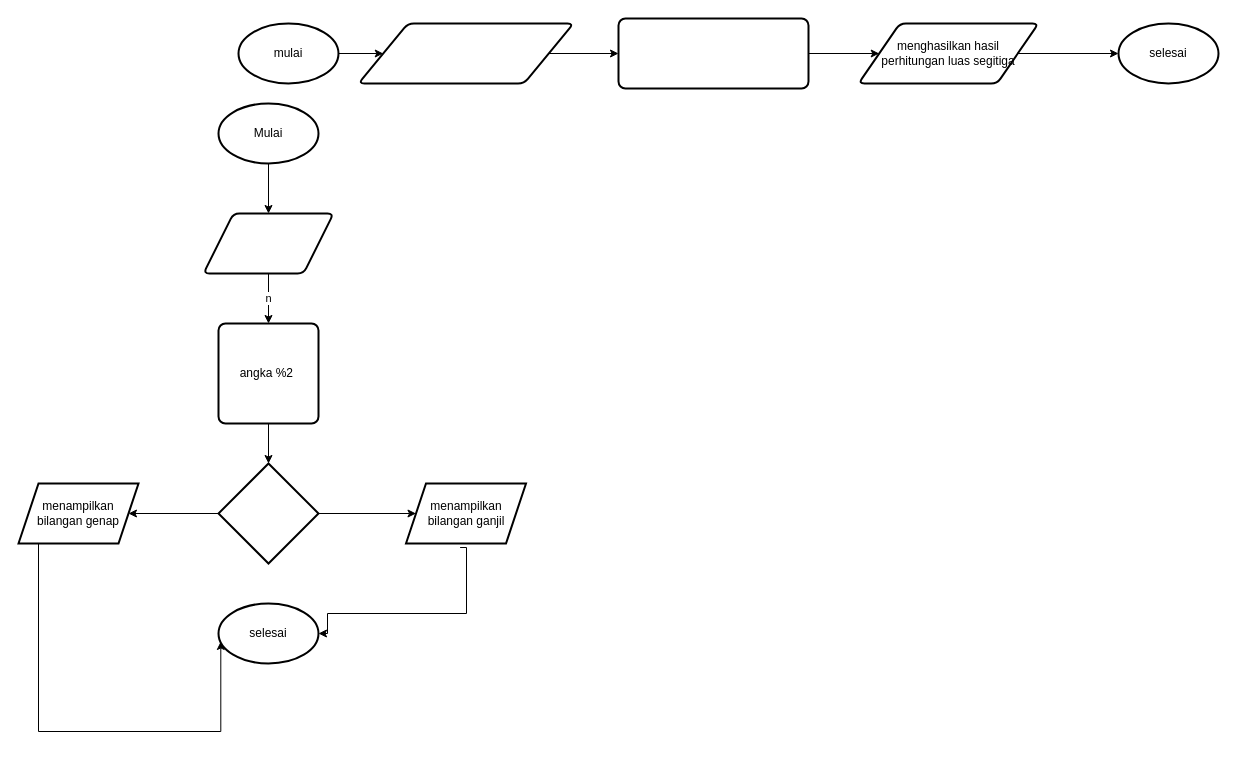
This 1236x757 diagram has some shape labels left out. The box of each missing label's shape, as (x1, y1, x2, y2) in pixels:
jika angka = 0: (217, 462, 319, 564)
luas = alas * tinggi/2: (617, 17, 809, 89)
Masukkan alas dan tinggi segitiga: (357, 22, 574, 84)
masukkan angka: (202, 212, 334, 274)
